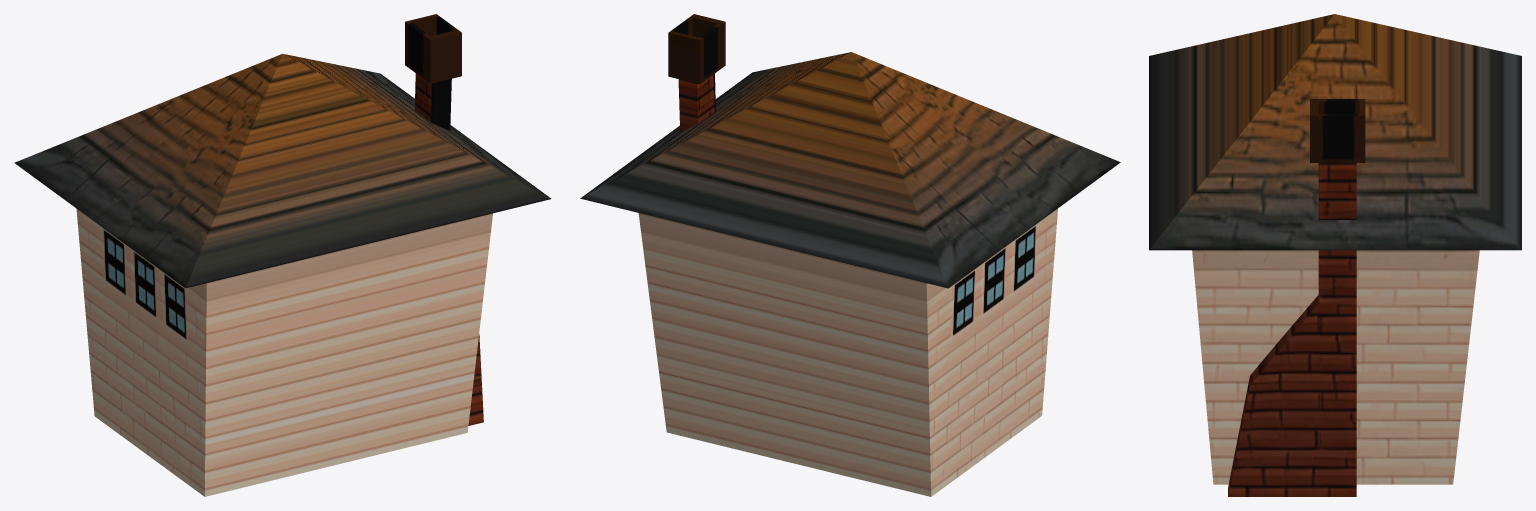
The model's file is House5.glb.
3 renders of one model, left to right at view 1: azimuth 30°, elevation 25°; view 2: azimuth 150°, elevation 25°; view 3: azimuth 270°, elevation 25°, orthographic. The views are drawn at different scales.
Parts seen in each view (by area): view 1: House5; view 2: House5; view 3: House5.
Part boxes in pixels (x1,y1,x2,y2): House5: (14, 14, 551, 496); House5: (580, 14, 1120, 496); House5: (1149, 14, 1521, 496).
Size of the model in its own units: 109 by 105 by 88.14.
1 material, 1 textured.
